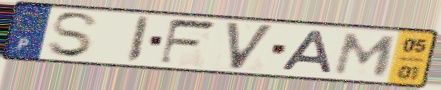A: (278, 28, 335, 75)
F: (156, 17, 220, 68)
I: (123, 14, 153, 65)
M: (330, 31, 401, 78)
S: (45, 11, 102, 59)
V: (223, 20, 278, 73)
